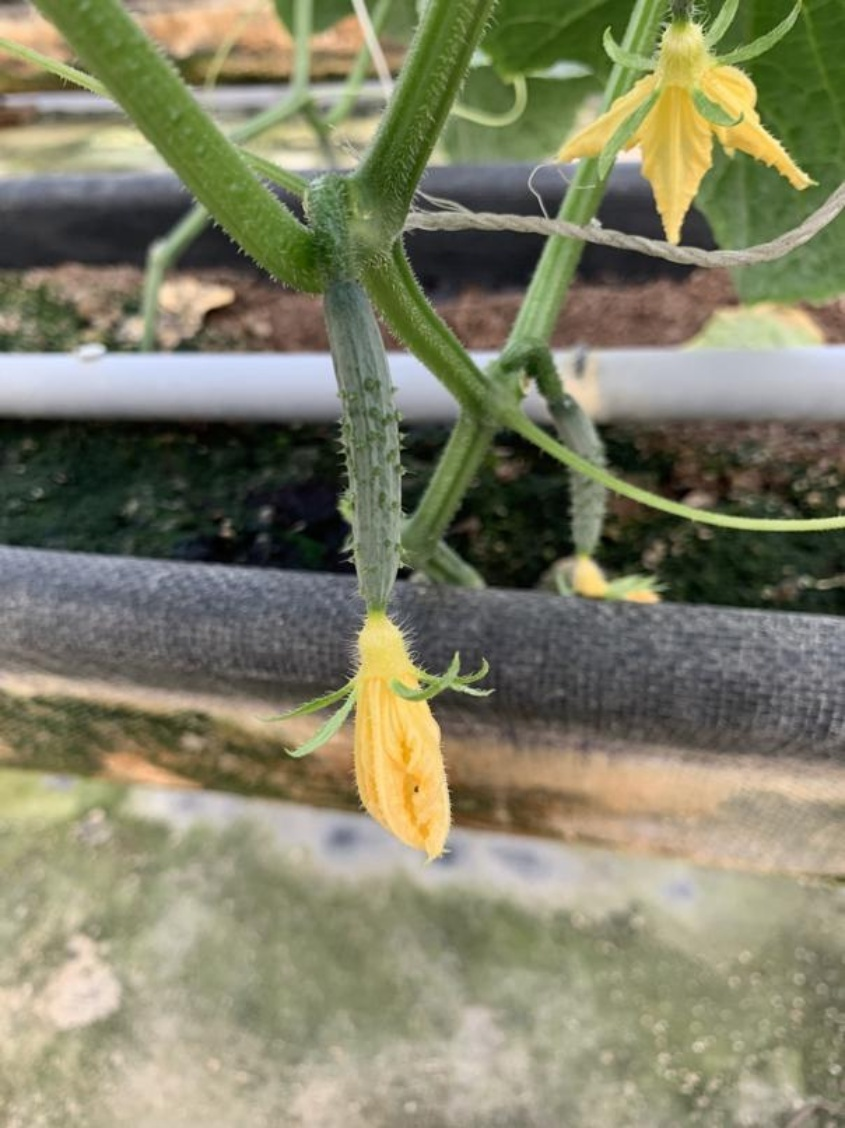bear: (285, 289, 475, 839)
